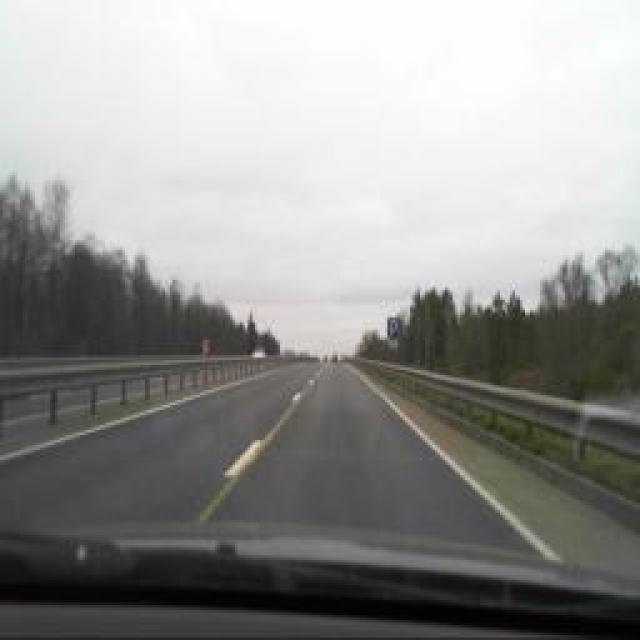sign: (386, 316, 399, 339)
